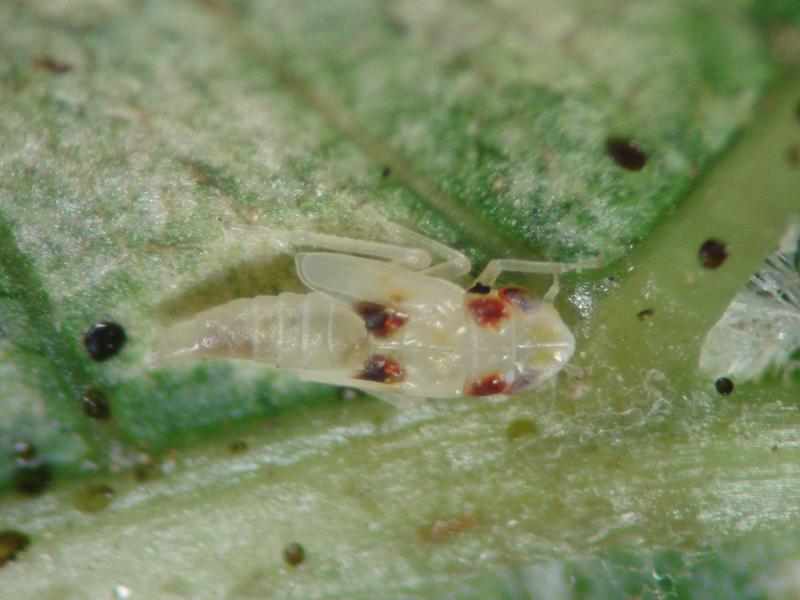Brown_plant_leafhopper: (126, 229, 598, 442)
